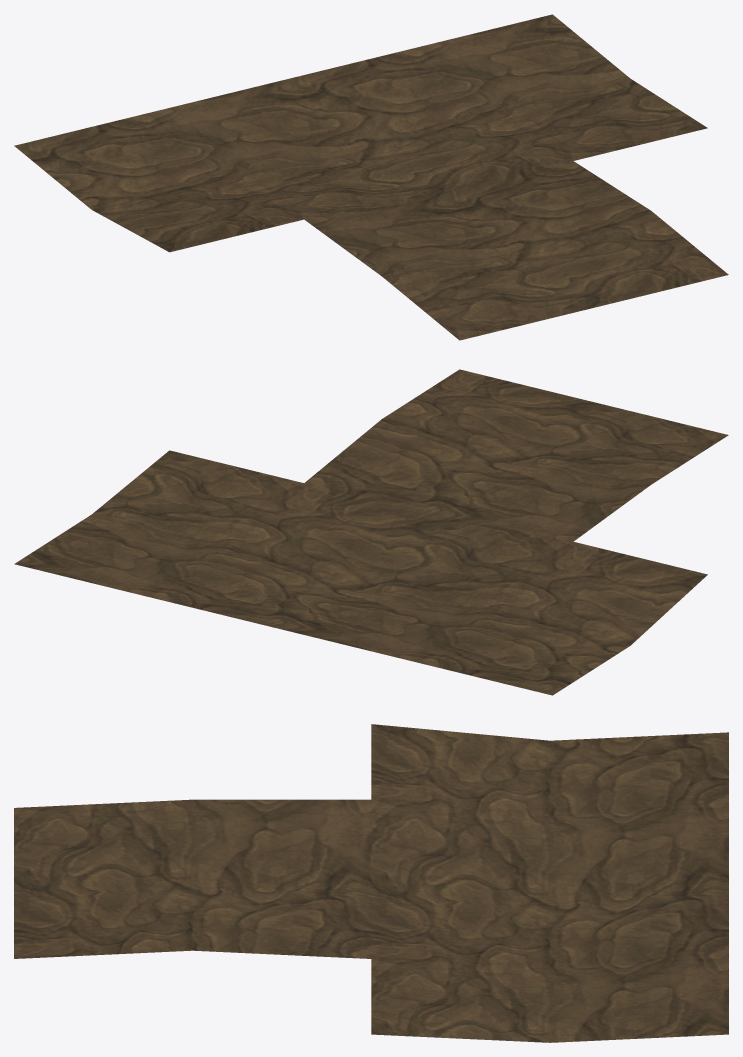
Rendered from cave floor T.FBX.
3 renders of one model, top to bottom at view 1: azimuth 30°, elevation 25°; view 2: azimuth 150°, elevation 25°; view 3: azimuth 270°, elevation 25°, orthographic. The views are drawn at different scales.
Visible parts, largest first — view 1: cave floor T; view 2: cave floor T; view 3: cave floor T.
Boxes of the visible parts, <box> form: cave floor T: <box>14,14,728,340</box>; cave floor T: <box>14,369,728,695</box>; cave floor T: <box>14,724,728,1042</box>.
Bounding box in the file's own units: 40 × 1.8 × 40.
